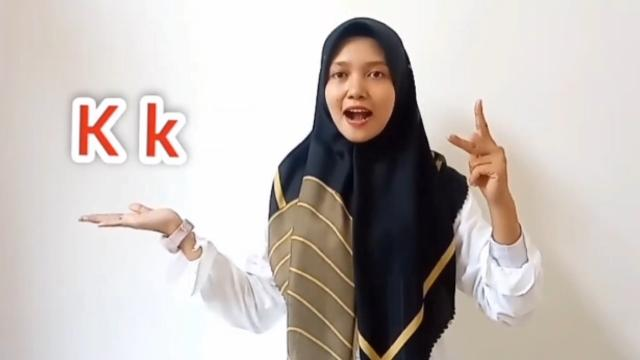K: (442, 98, 506, 218)
